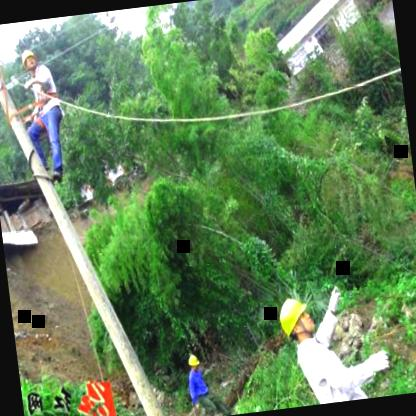helmet: (274, 290, 320, 350), (18, 42, 40, 70), (186, 352, 202, 374)
